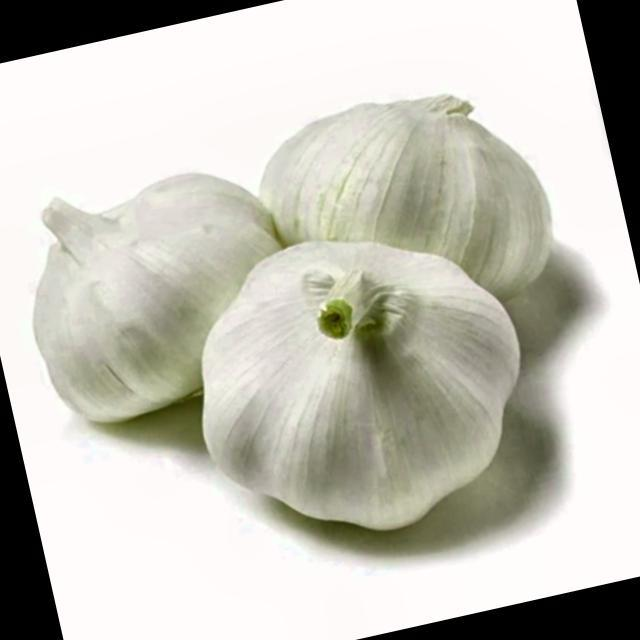garlic: (202, 241, 520, 530), (35, 174, 281, 422), (260, 95, 551, 299)
